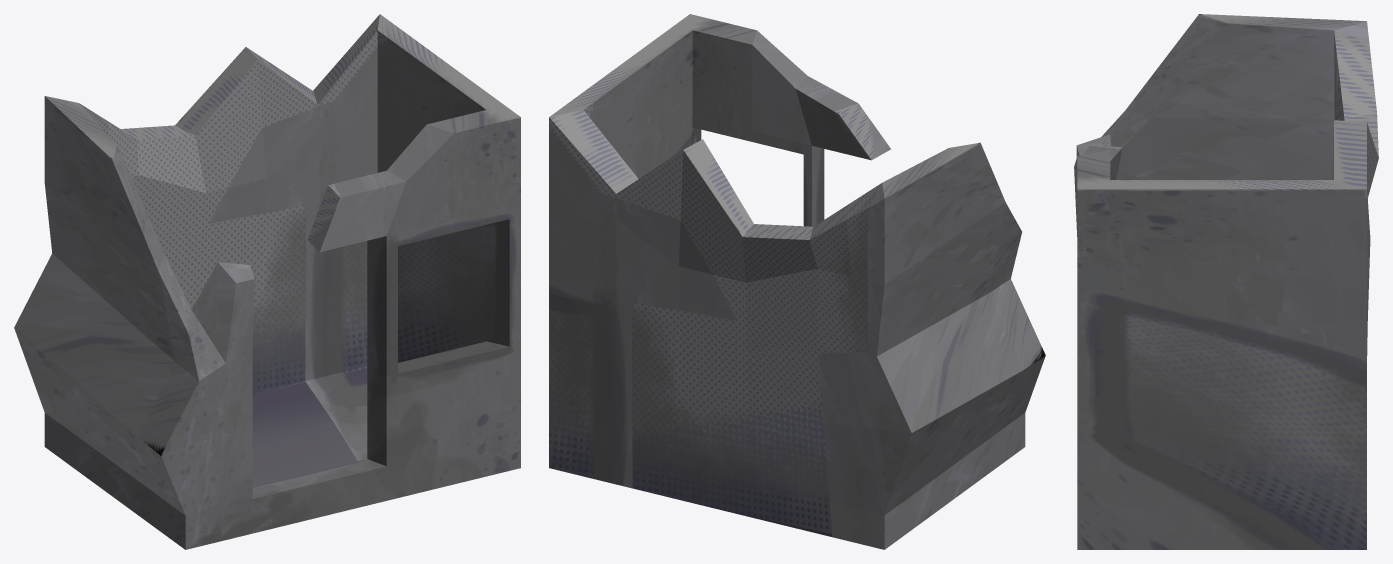
Rendered from destruido 2.fbx.
The picture shows the model from 3 angles, left to right: view 1: azimuth 30°, elevation 25°; view 2: azimuth 150°, elevation 25°; view 3: azimuth 270°, elevation 25°; orthographic projection. The views are drawn at different scales.
Parts seen in each view (by area): view 1: Cube.026; view 2: Cube.026; view 3: Cube.026.
Boxes of the visible parts, box(x1,y1,x2,y2) form: Cube.026: box(14, 14, 520, 549); Cube.026: box(549, 14, 1045, 549); Cube.026: box(1074, 14, 1378, 549).
Size of the model in its own units: 217 by 200 by 153.
Materials: 1 (1 with a texture image).
